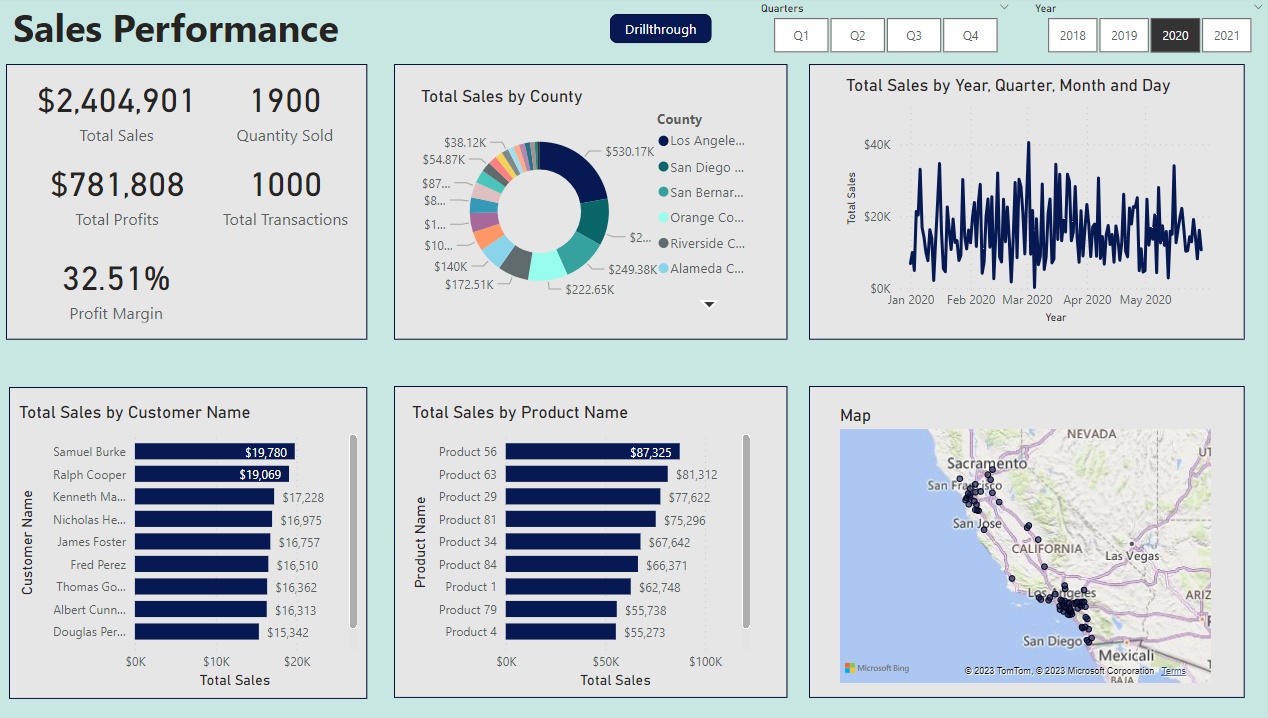

The dashboard page shown, as its layout file describes it:
{"tool":"powerbi","page":{"name":"Page 2","canvas":[1280,720],"ordinal":1},"visuals":[{"type":"shape","box":[393.3,66.7,391.1,274.4],"z":0},{"type":"shape","box":[11.1,387.8,355.6,310],"z":1000},{"type":"shape","box":[393.3,386.7,391.1,310],"z":2000},{"type":"shape","box":[805.6,386.7,433.3,310],"z":3000},{"type":"shape","box":[805.6,66.7,433.3,274.4],"z":4000},{"type":"shape","box":[7.8,66.7,358.9,274.4],"z":5000},{"type":"textbox","box":[10,0,482.2,62.2],"z":6000},{"type":"donutChart","fields":{"Category":["Locations.County"],"Y":["Key Measure.Total Sales"]},"box":[415.6,88.9,345.6,230],"z":7000},{"type":"clusteredBarChart","fields":{"Category":["Customers.Customer Name"],"Y":["Key Measure.Total Sales"]},"box":[15.6,402.2,345.6,288.9],"z":8000},{"type":"clusteredBarChart","fields":{"Category":["Products.Product Name"],"Y":["Key Measure.Total Sales"]},"box":[406.7,402.2,345.6,288.9],"z":9000},{"type":"map","title":"Map","fields":{"Y":["Locations.Latitude"],"X":["Locations.Longitude"]},"box":[832.2,405.6,378.9,281.1],"z":10000},{"type":"lineChart","fields":{"Category":["Dates.Date.Variation.Date Hierarchy.Year","Dates.Date.Variation.Date Hierarchy.Quarter","Dates.Date.Variation.Date Hierarchy.Month","Dates.Date.Variation.Date Hierarchy.Day"],"Y":["Key Measure.Total Sales"]},"box":[837.8,77.8,388.9,251.1],"z":11000},{"type":"slicer","fields":{"Values":["Dates.Date.Variation.Date Hierarchy.Year"]},"box":[1017.8,0,252.2,62.2],"z":12000},{"type":"card","fields":{"Values":["Key Measure.Quantity Sold"]},"box":[223,69,125.4,83.3],"z":13000},{"type":"card","fields":{"Values":["Key Measure.Total Sales"]},"box":[18.8,69,197.9,83.3],"z":14000},{"type":"card","fields":{"Values":["Key Measure.Total Profits"]},"box":[27.8,152.2,180.9,83.3],"z":15000},{"type":"card","fields":{"Values":["Key Measure.Profit Margin"]},"box":[24.2,245.4,187.2,83.3],"z":16000},{"type":"card","fields":{"Values":["Key Measure.Total Transactions"]},"box":[216.7,152.2,137.9,83.3],"z":17000},{"type":"slicer","fields":{"Values":["Dates.Quarters"]},"box":[745.6,0,272.2,62.2],"z":18000},{"type":"shape","box":[607.8,16.7,101.1,28.9],"z":19000}]}

Visuals, with their boxes in screenshot pixels (x1, y1, x2, y2), scaled from the page's 1280x720 canvas onto the 1268x718 screenshot:
shape: pyautogui.locateOnScreen(390, 67, 777, 340)
shape: pyautogui.locateOnScreen(11, 387, 363, 696)
shape: pyautogui.locateOnScreen(390, 386, 777, 695)
shape: pyautogui.locateOnScreen(798, 386, 1227, 695)
shape: pyautogui.locateOnScreen(798, 67, 1227, 340)
shape: pyautogui.locateOnScreen(8, 67, 363, 340)
textbox: pyautogui.locateOnScreen(10, 0, 488, 62)
donutChart - Locations.County x Key Measure.Total Sales: pyautogui.locateOnScreen(412, 89, 754, 318)
clusteredBarChart - Customers.Customer Name x Key Measure.Total Sales: pyautogui.locateOnScreen(15, 401, 358, 689)
clusteredBarChart - Products.Product Name x Key Measure.Total Sales: pyautogui.locateOnScreen(403, 401, 745, 689)
"Map" map: pyautogui.locateOnScreen(824, 404, 1200, 685)
lineChart - Dates.Date.Variation.Date Hierarchy.Year x Dates.Date.Variation.Date Hierarchy.Quarter: pyautogui.locateOnScreen(830, 78, 1215, 328)
slicer - Dates.Date.Variation.Date Hierarchy.Year: pyautogui.locateOnScreen(1008, 0, 1258, 62)
card - Key Measure.Quantity Sold: pyautogui.locateOnScreen(221, 69, 345, 152)
card - Key Measure.Total Sales: pyautogui.locateOnScreen(19, 69, 215, 152)
card - Key Measure.Total Profits: pyautogui.locateOnScreen(28, 152, 207, 235)
card - Key Measure.Profit Margin: pyautogui.locateOnScreen(24, 245, 209, 328)
card - Key Measure.Total Transactions: pyautogui.locateOnScreen(215, 152, 351, 235)
slicer - Dates.Quarters: pyautogui.locateOnScreen(739, 0, 1008, 62)
shape: pyautogui.locateOnScreen(602, 17, 702, 45)
